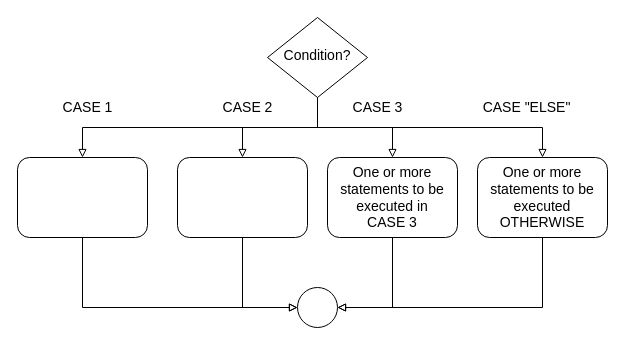
Some shapes in this 625 by 345 pixel diagram are drawn without their labels. Here are the shapes that lost their labels. From the top down, the centre of each, then its label:
At [82,197]: "One or more statements to be executed in CASE 1".
At [242,197]: "One or more statements to be executed in CASE 2".
